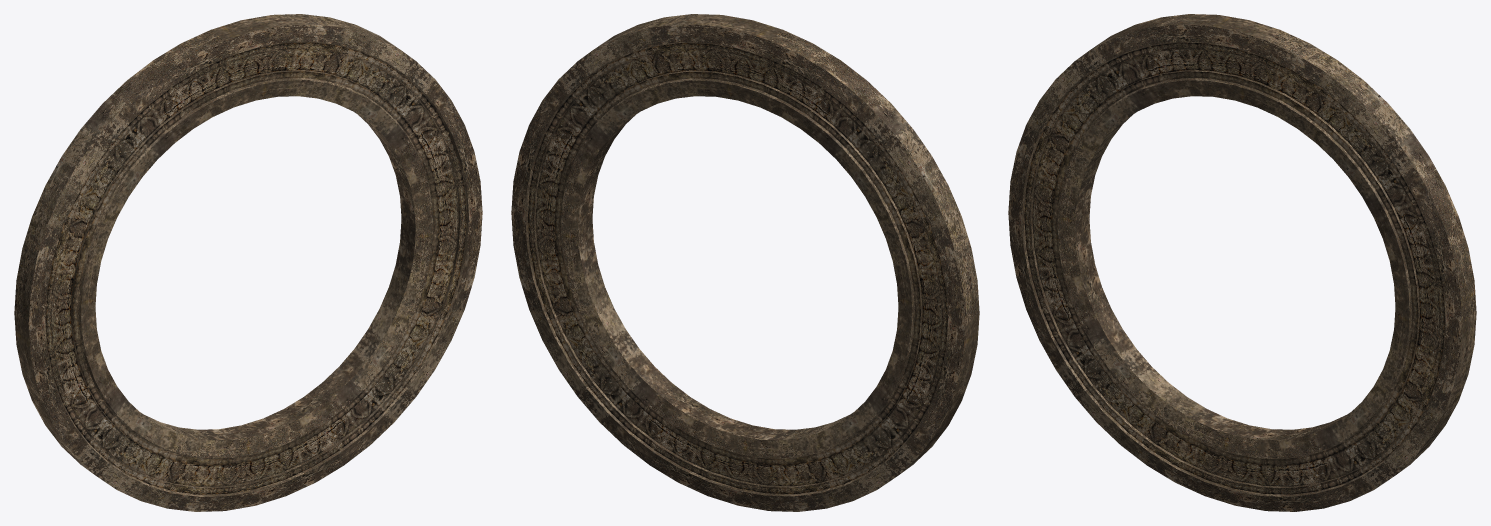
File: materials_5_decoration_plate_4.fbx
3 renders of one model, left to right at view 1: azimuth 30°, elevation 25°; view 2: azimuth 150°, elevation 25°; view 3: azimuth 330°, elevation 25°, orthographic.
Parts seen in each view (by area): view 1: materials_5_decoration_plate_4; view 2: materials_5_decoration_plate_4; view 3: materials_5_decoration_plate_4.
Boxes of the visible parts, x1,y1,x2,y2 form: materials_5_decoration_plate_4: (14,14,482,511); materials_5_decoration_plate_4: (511,14,979,511); materials_5_decoration_plate_4: (1008,14,1476,511).
Size of the model in its own units: 127 by 127 by 8.43.
